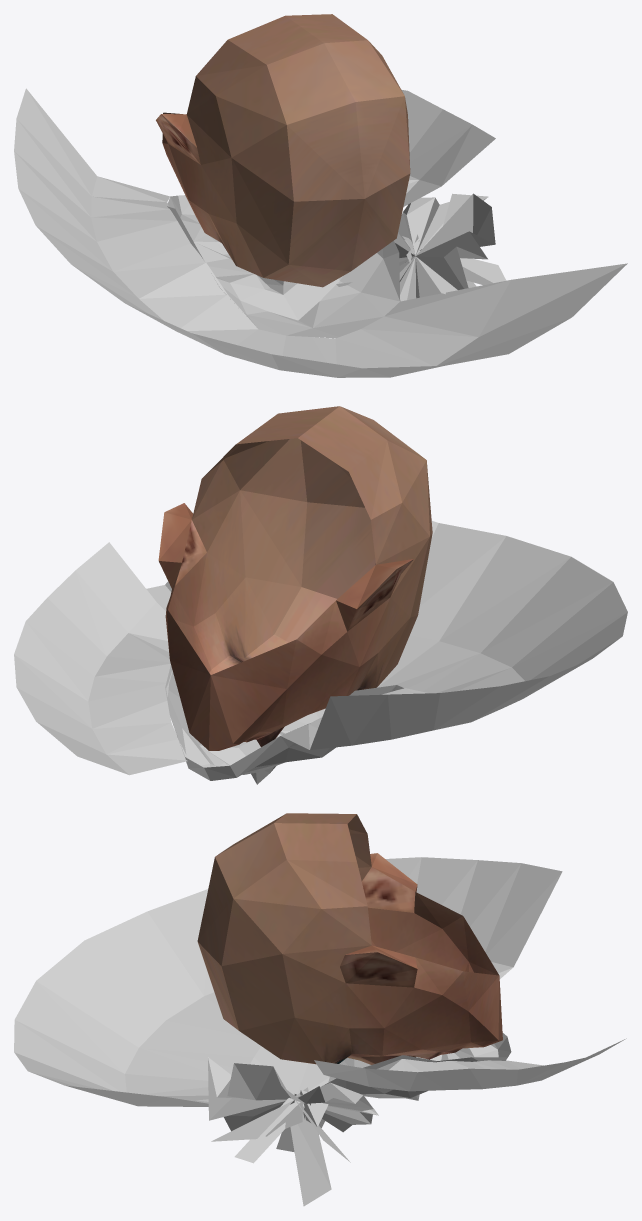
The model's file is common_face_male_2407.obj.
The picture shows the model from 3 angles, top to bottom: view 1: azimuth 30°, elevation 25°; view 2: azimuth 150°, elevation 25°; view 3: azimuth 270°, elevation 25°; orthographic projection. The views are drawn at different scales.
Parts seen in each view (by area): view 1: common_face_male_2407, ????A; view 2: ????A, common_face_male_2407; view 3: common_face_male_2407, ????A.
Boxes of the visible parts, x1,y1,x2,y2 form: common_face_male_2407: [14, 88, 627, 377]; ????A: [156, 14, 410, 287]; ????A: [158, 406, 432, 750]; common_face_male_2407: [14, 521, 627, 784]; common_face_male_2407: [14, 857, 626, 1206]; ????A: [197, 813, 502, 1064].
Size of the model in its own units: 15.47 by 10.68 by 19.84.
